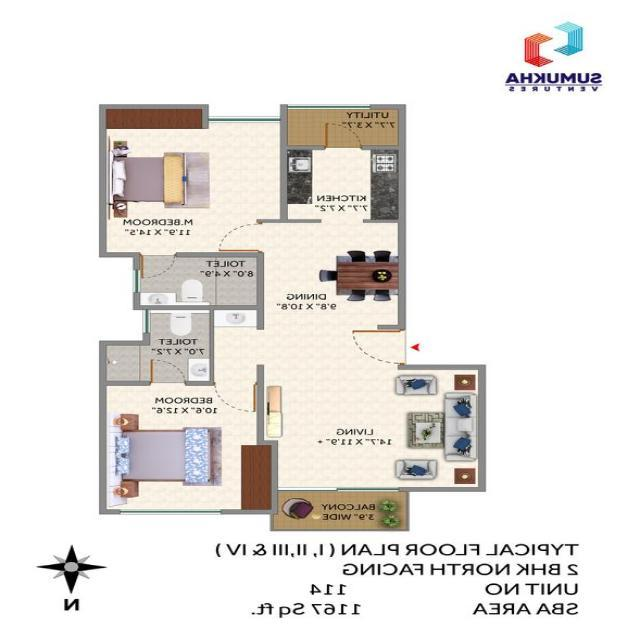Balcony-Sitout: (269, 488, 412, 532)
Bedroom: (97, 383, 264, 516)
Bedroom with Toilet: (101, 119, 283, 306)
Dining: (316, 250, 399, 303)
Enterance-Foyer: (343, 326, 427, 365)
Kitchen: (281, 149, 409, 224)
Living: (267, 365, 490, 493)
Toilet: (132, 252, 264, 311), (142, 305, 217, 386)
Utility: (279, 105, 409, 149)
